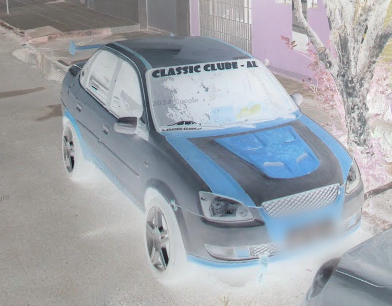car: (56, 34, 367, 290)
